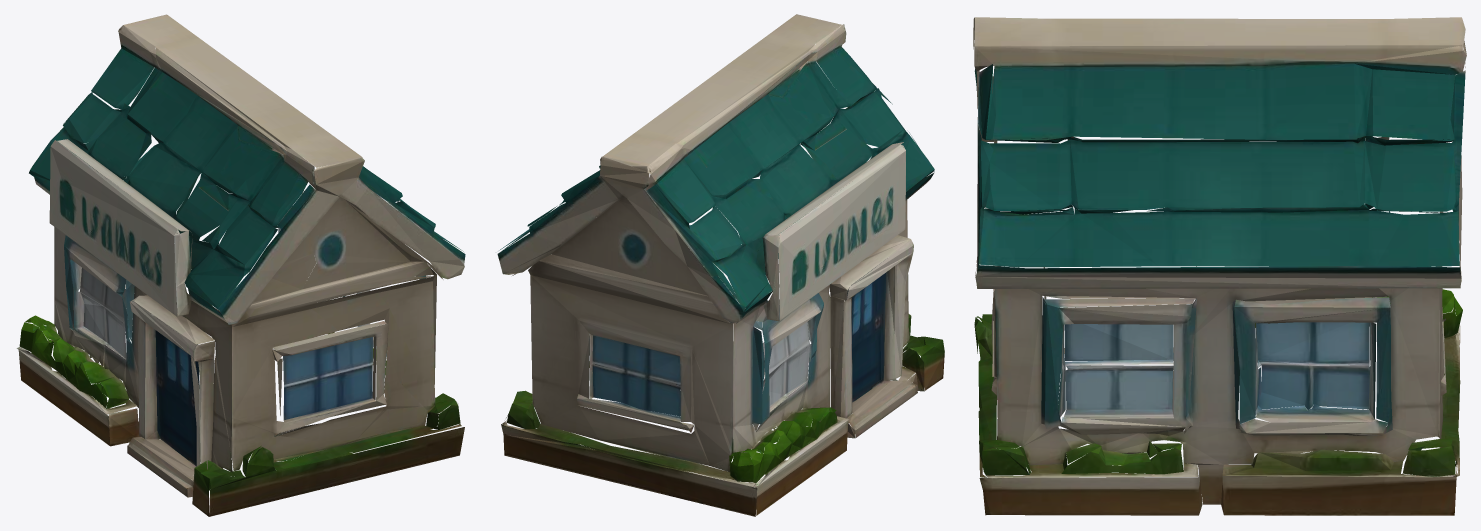
File: blue_roof_business.glb
3 views of the same model, side by side, from view 1: azimuth 30°, elevation 25°; view 2: azimuth 150°, elevation 25°; view 3: azimuth 270°, elevation 25° (orthographic). The views are drawn at different scales.
Parts seen in each view (by area): view 1: geometry_0; view 2: geometry_0; view 3: geometry_0.
Boxes of the visible parts, x1,y1,x2,y2 form: geometry_0: [17, 14, 465, 516]; geometry_0: [497, 14, 944, 516]; geometry_0: [973, 17, 1466, 515].
Size of the model in its own units: 0.372 by 0.4456 by 0.4837.
Materials: 1 (1 with a texture image).
